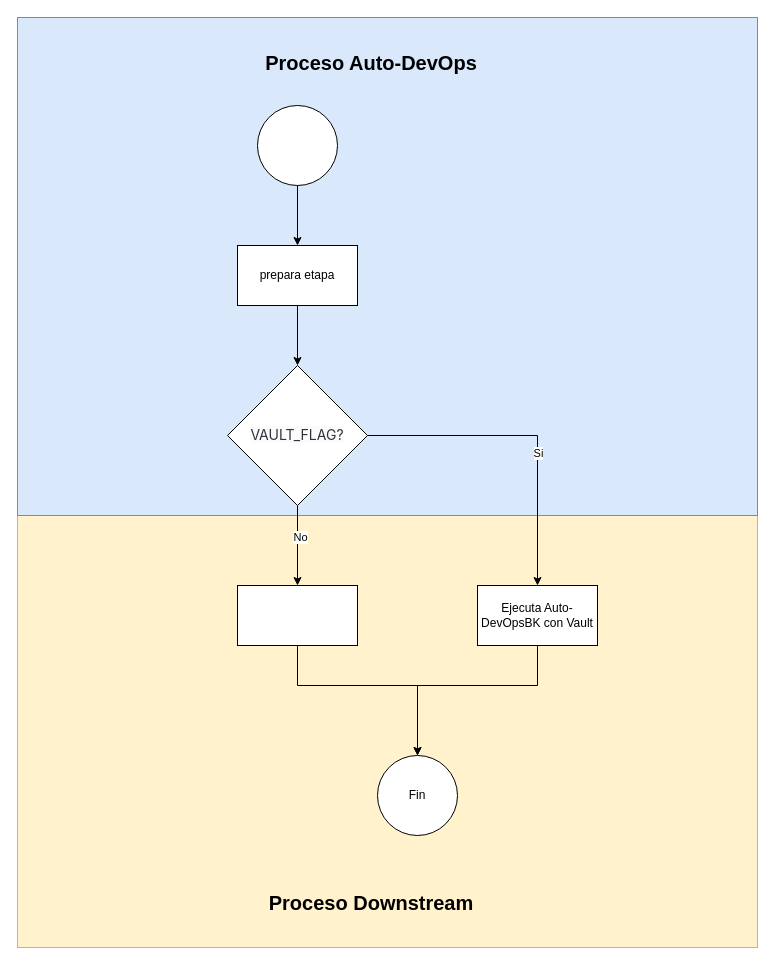
Some shapes in this 775 by 965 pixel diagram are drawn without their labels. Each missing label, with the centre of its shape:
Ejecuta Auto-DevOpsBK: point (297, 615)
Inicio: point (297, 145)
